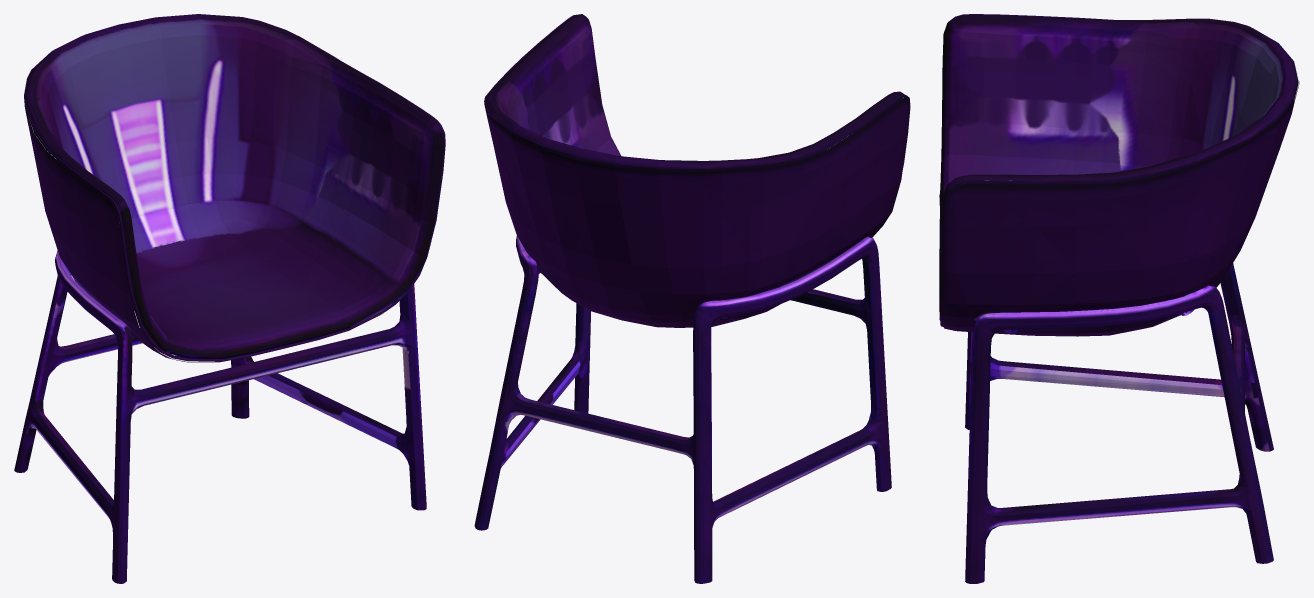
File: edited_mesh.glb
3 views of the same model, side by side, from view 1: azimuth 30°, elevation 25°; view 2: azimuth 150°, elevation 25°; view 3: azimuth 270°, elevation 25° (orthographic). The views are drawn at different scales.
Parts seen in each view (by area): view 1: normalized_model.obj; view 2: normalized_model.obj; view 3: normalized_model.obj.
Part boxes in pixels (x1,y1,x2,y2): normalized_model.obj: (14, 14, 445, 583); normalized_model.obj: (474, 14, 910, 583); normalized_model.obj: (939, 14, 1299, 583).
Size of the model in its own units: 1.18 by 1.41 by 1.07.
1 material, 1 textured.
